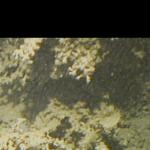alive: (1, 39, 147, 148)
